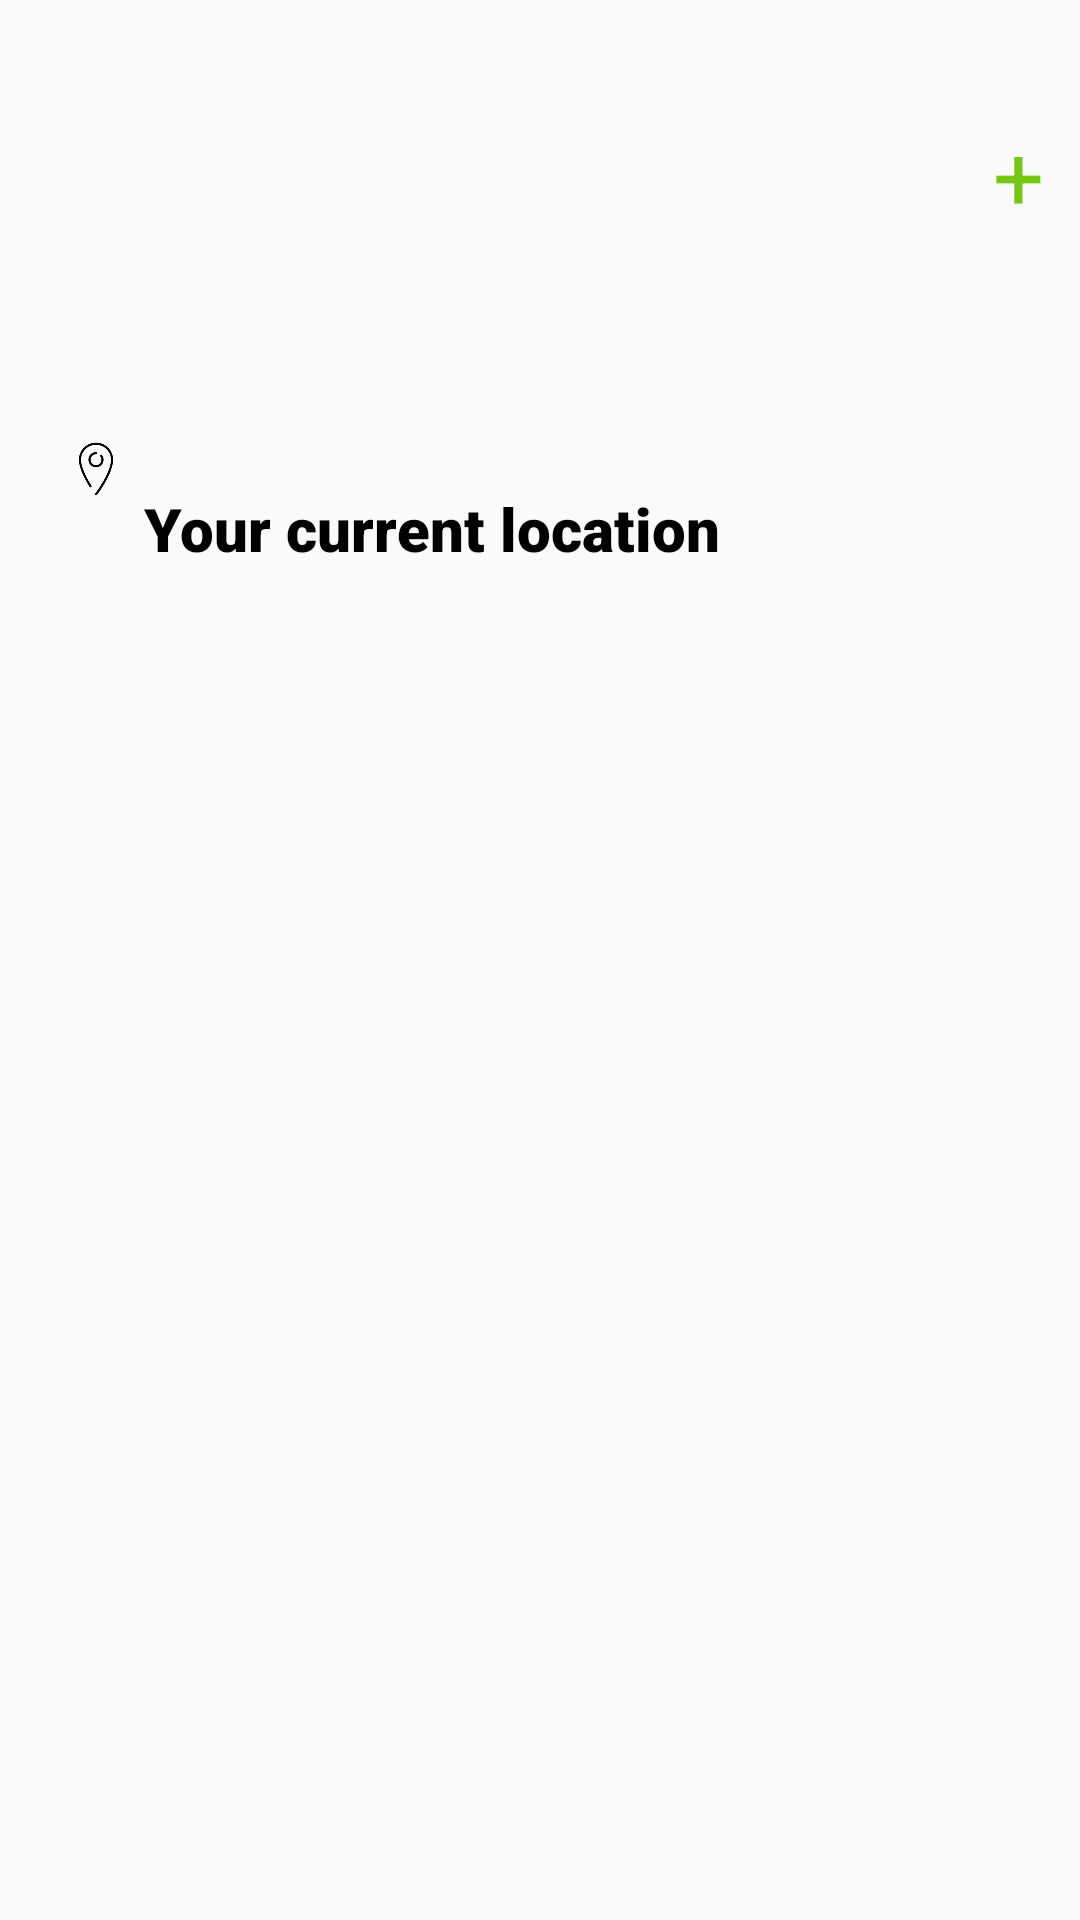

Named icons in this screenshot (1080*1920) and their centers, (x,y):
cur: (96,469)
